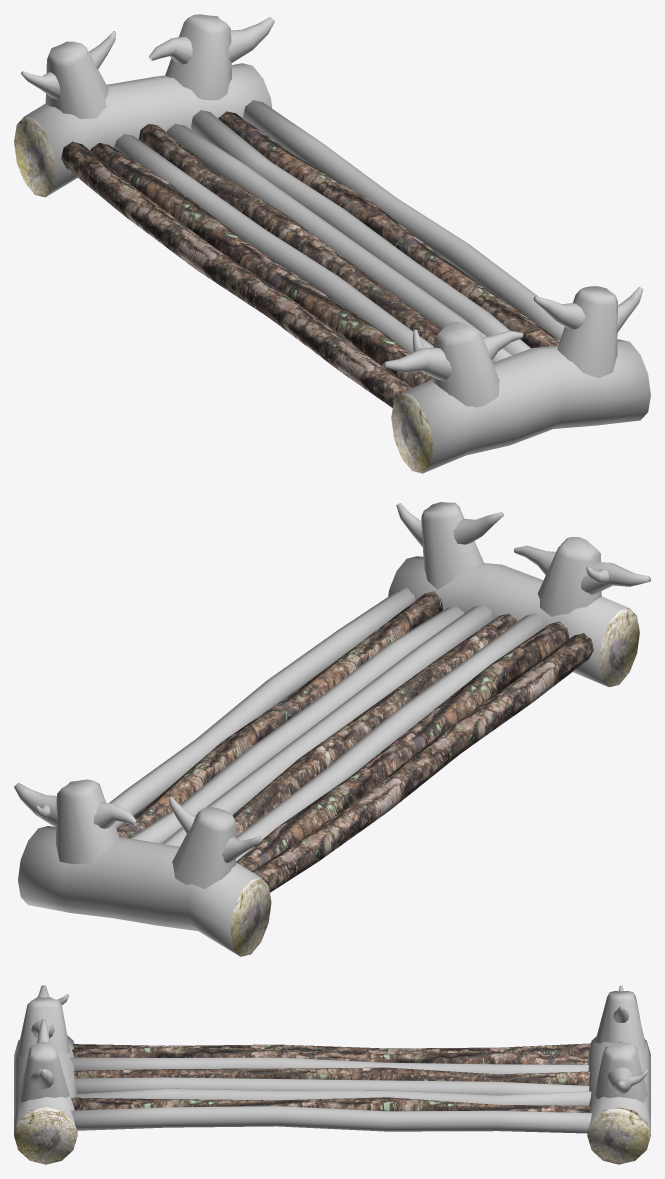
Rendered from Normal_2.fbx.
3 views of the same model, one above another, from view 1: azimuth 30°, elevation 25°; view 2: azimuth 150°, elevation 25°; view 3: azimuth 270°, elevation 25° (orthographic). The views are drawn at different scales.
Visible parts, largest first — view 1: Normal_2; view 2: Normal_2; view 3: Normal_2.
Part boxes in pixels (x1,y1,x2,y2): Normal_2: (14,14,650,473); Normal_2: (14,502,650,956); Normal_2: (14,985,650,1164).
Size of the model in its own units: 299 by 154 by 800.
